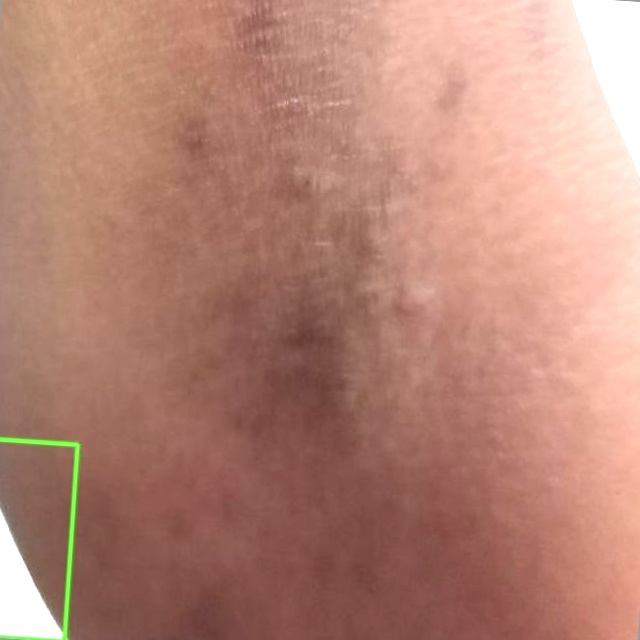Eczema: (0, 439, 77, 639)
